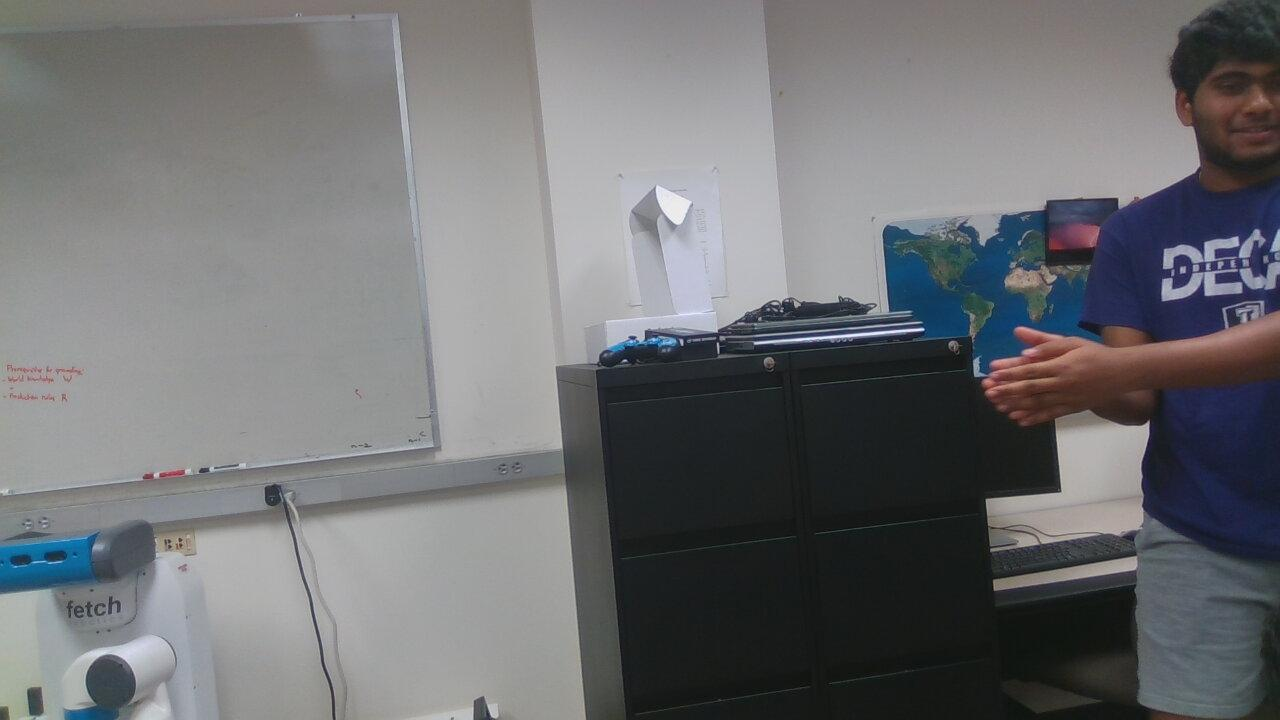hands: (986, 304, 1135, 438)
